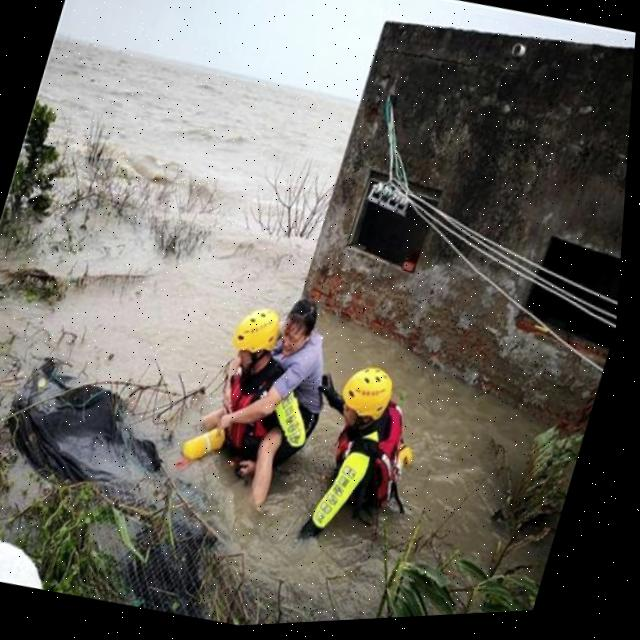civilian: (184, 278, 360, 520)
rescuer: (274, 336, 456, 562), (152, 295, 326, 523)
